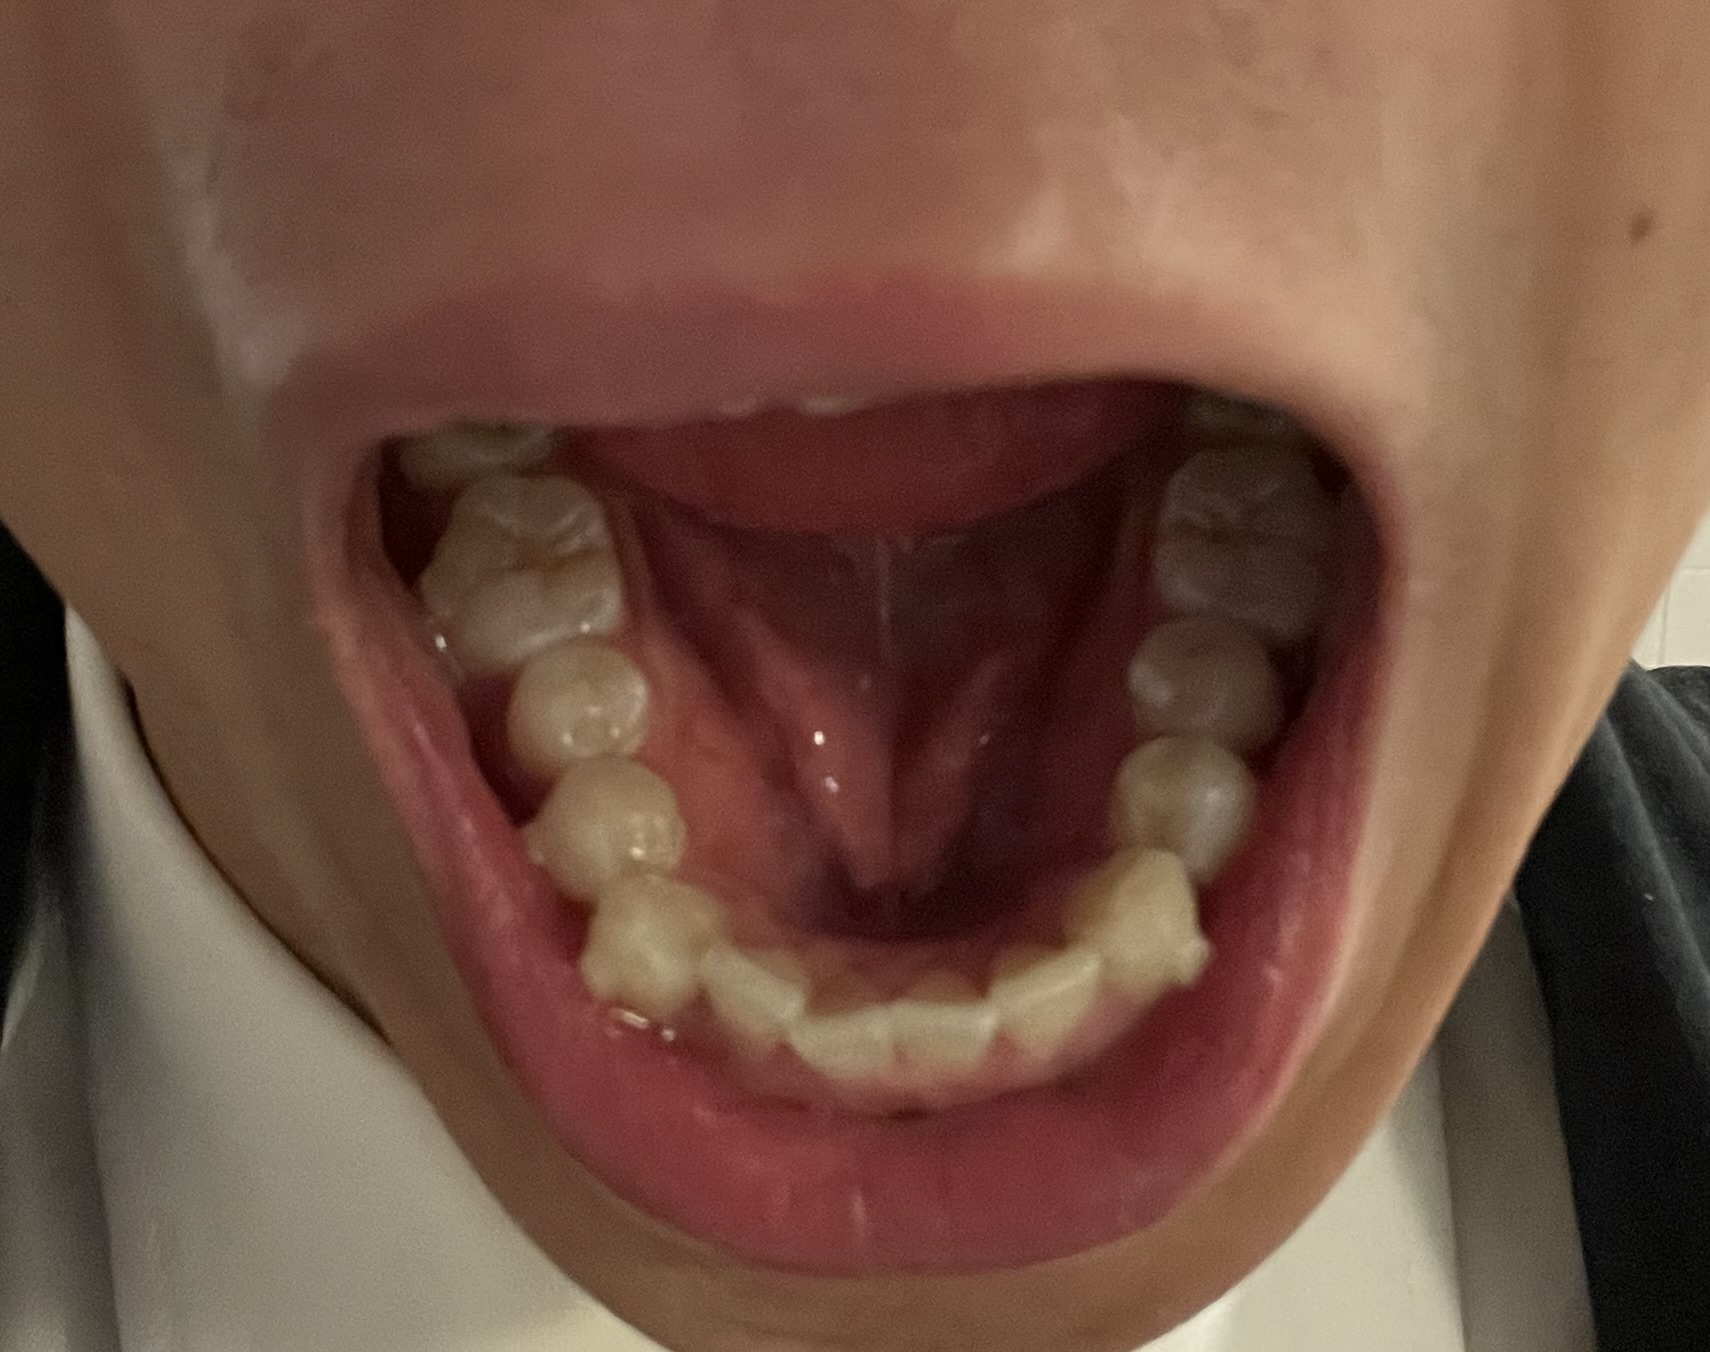teeth: (425, 487, 622, 664), (1167, 451, 1316, 655), (522, 763, 688, 898), (1070, 855, 1205, 1004), (1141, 625, 1280, 748), (584, 888, 719, 1013), (1133, 737, 1246, 872), (985, 944, 1084, 1061), (522, 658, 629, 758), (702, 949, 797, 1059), (794, 966, 891, 1072), (912, 974, 992, 1076)
